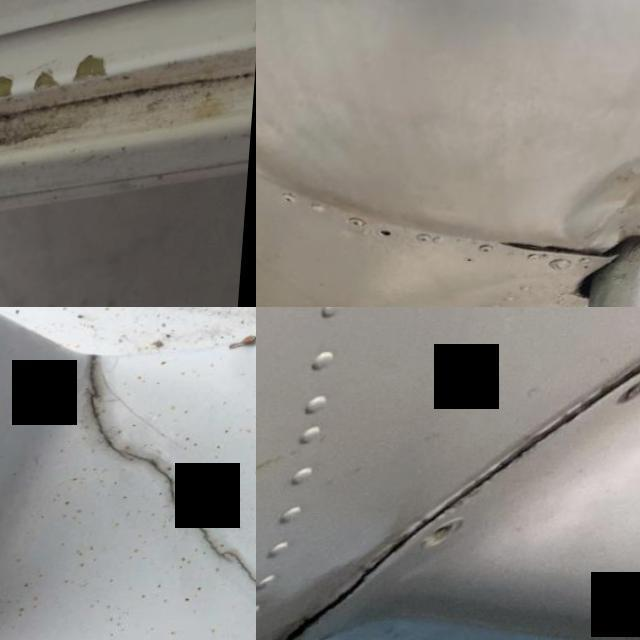Crack: (84, 350, 256, 590), (0, 28, 235, 200), (388, 408, 608, 540), (264, 533, 420, 640), (570, 307, 640, 413)
Dent: (541, 132, 640, 282)
Missing_Fastener: (431, 526, 464, 552)
